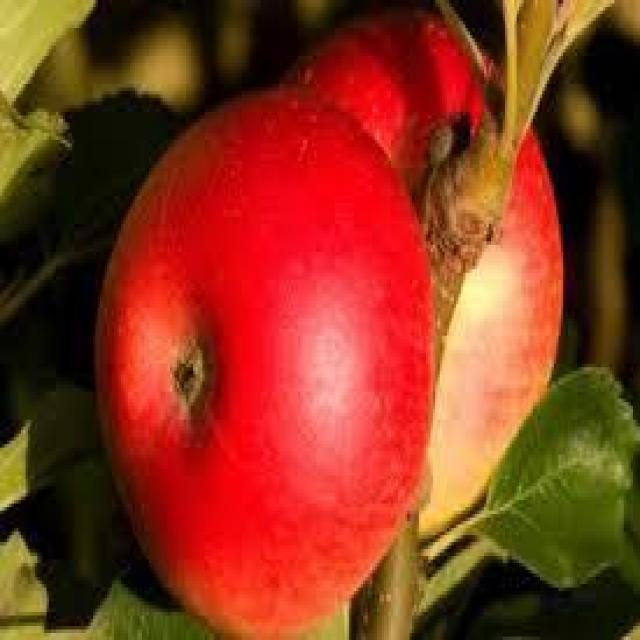maca: (93, 84, 438, 636), (264, 0, 563, 509)
